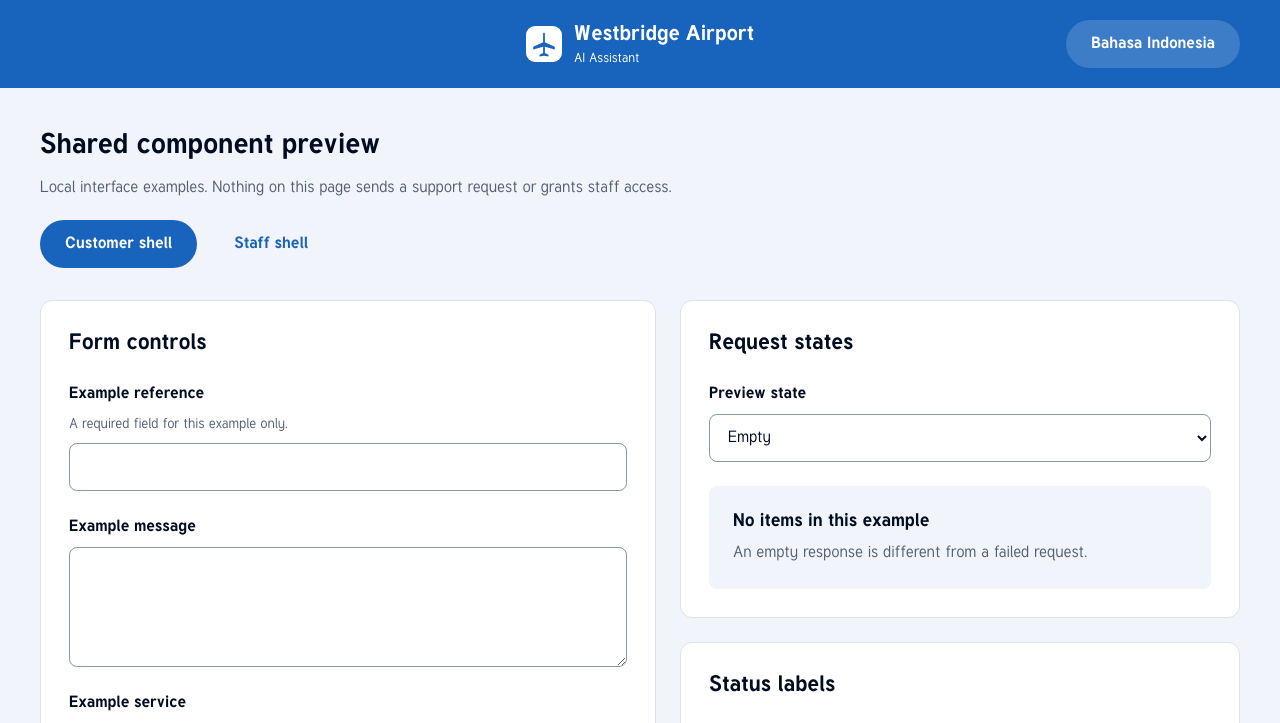
isolated component preview › distinguishes unknown results from failed or empty requests
Select "Result unknown" in the dropdown labelled "Preview state" at (960, 438), box [709, 414, 1211, 462]
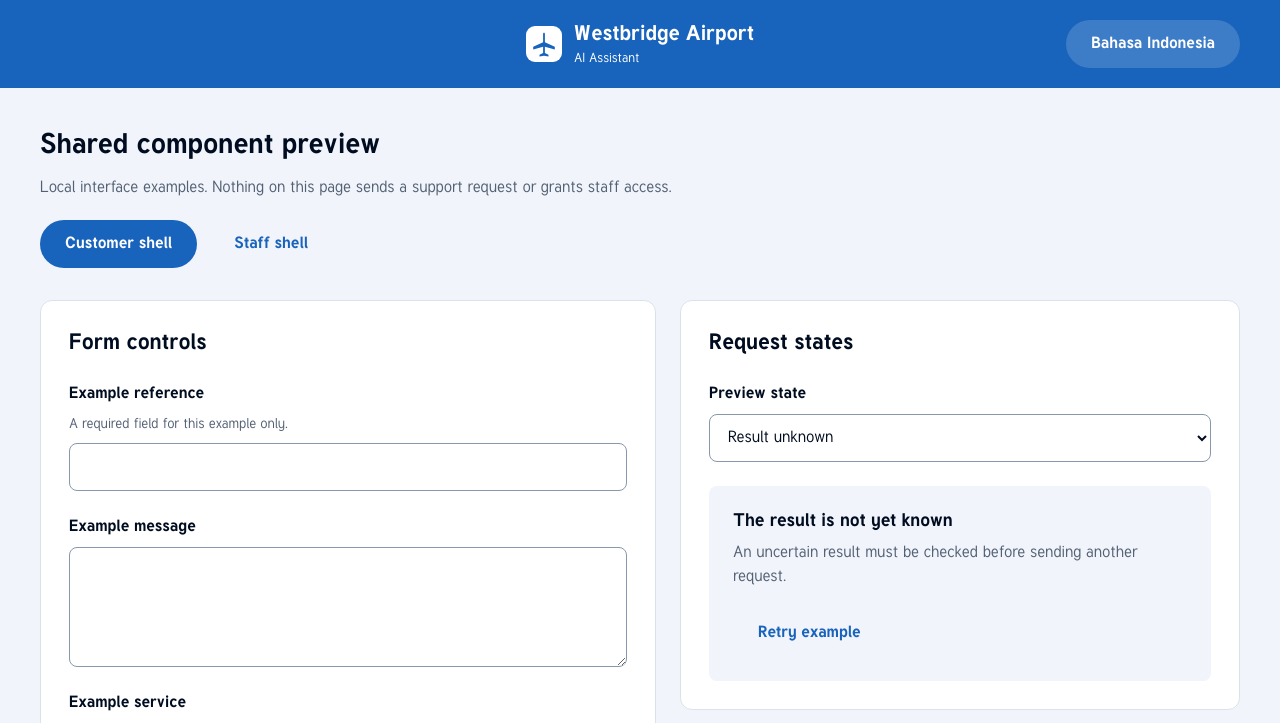
expect the heading "The result is not yet known" is shown: met, box [733, 512, 952, 530]
expect the button "Retry example" is shown: met, box [733, 609, 886, 657]
Select "Error" in the dropdown labelled "Preview state" at (960, 438), box [709, 414, 1211, 462]
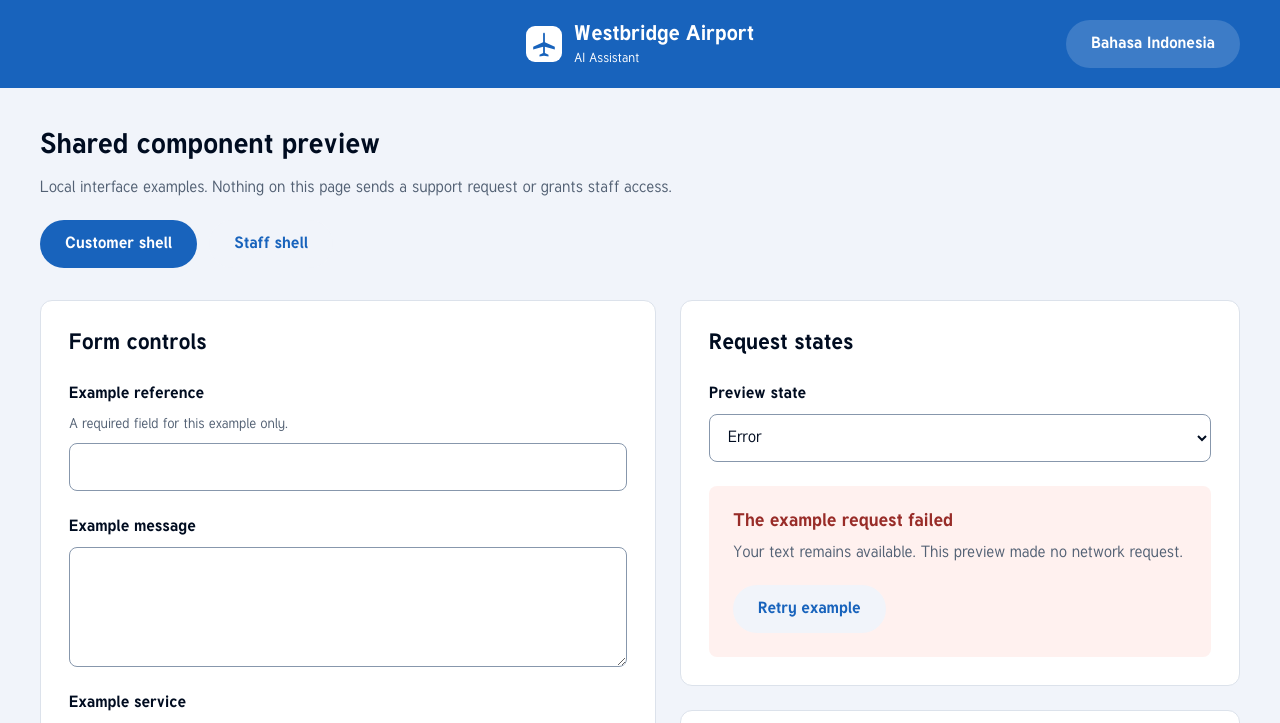
expect the message shows "The example request failed": met, box [733, 512, 953, 530]
